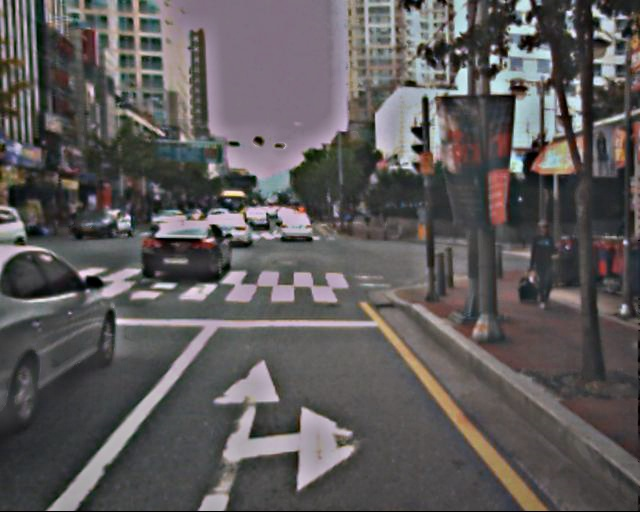person: (523, 218, 562, 309)
